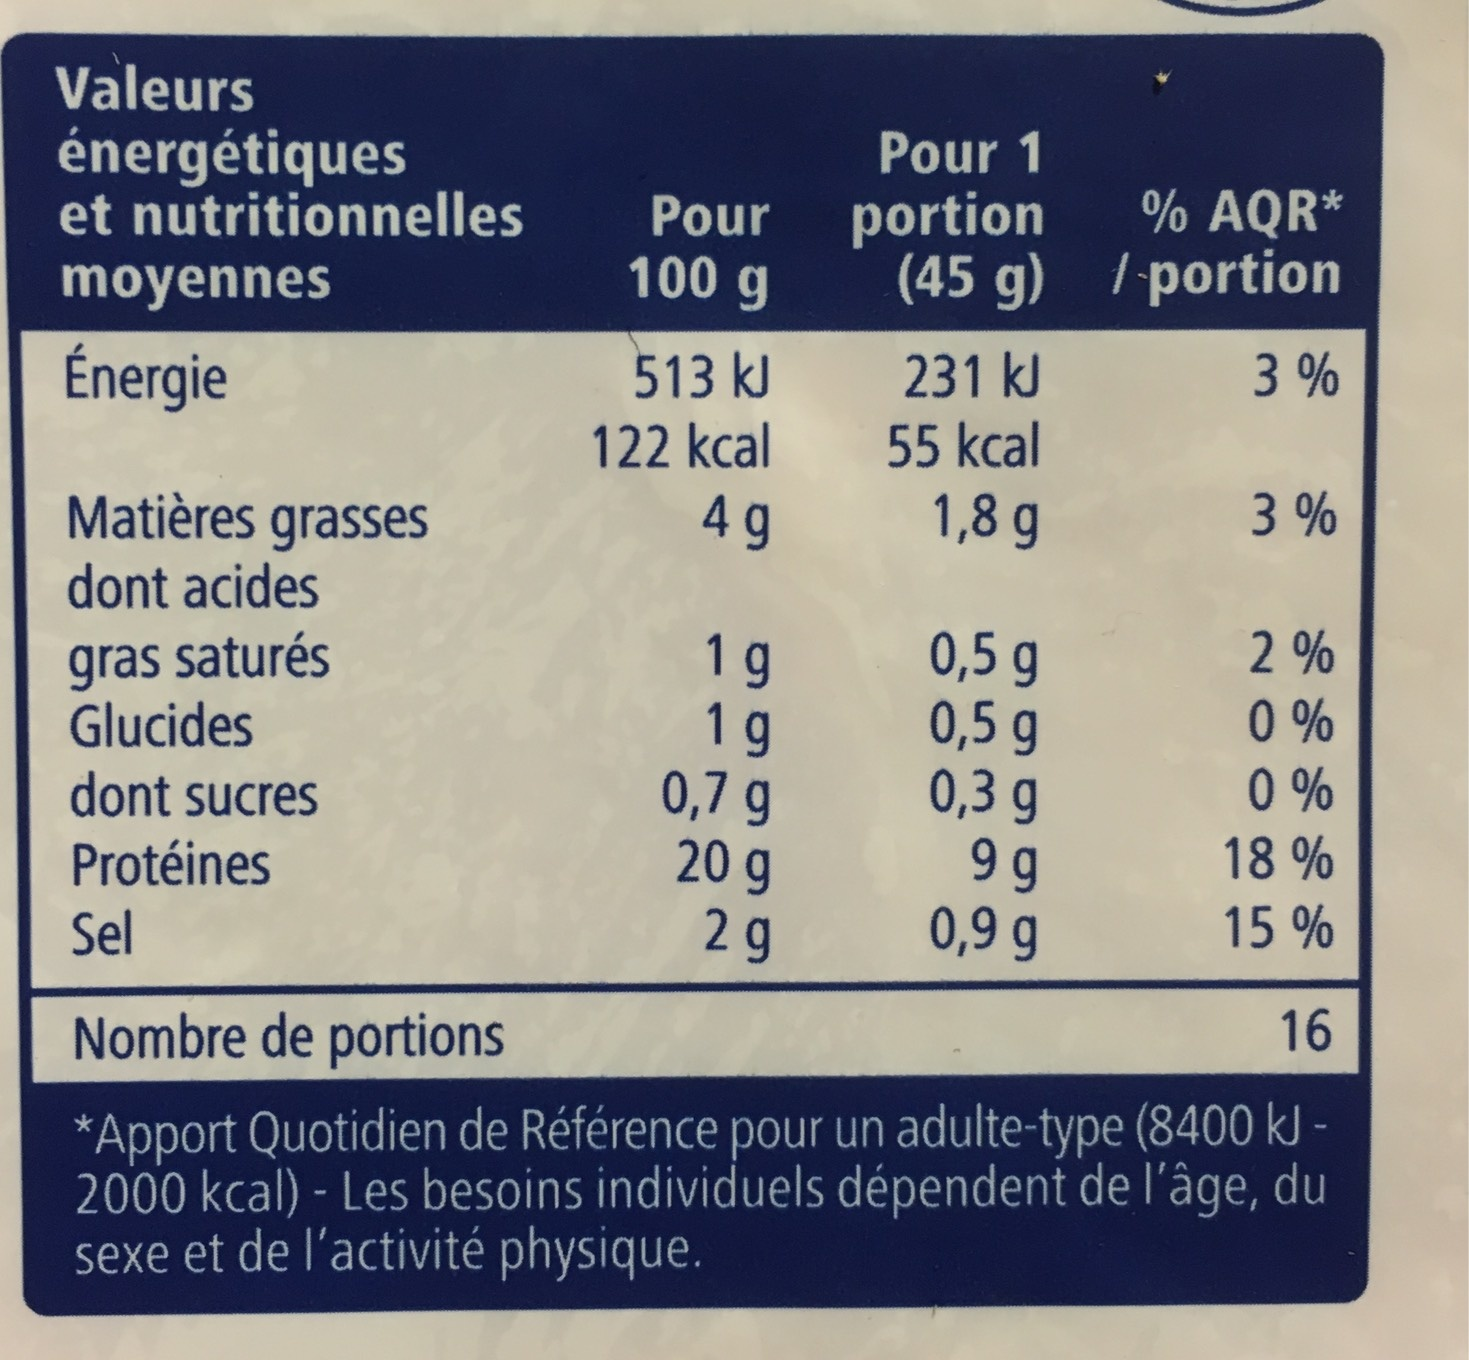column: (52, 61, 534, 969), (1109, 180, 1342, 970), (845, 120, 1040, 963), (584, 168, 773, 970)
table: (14, 29, 1369, 993)
